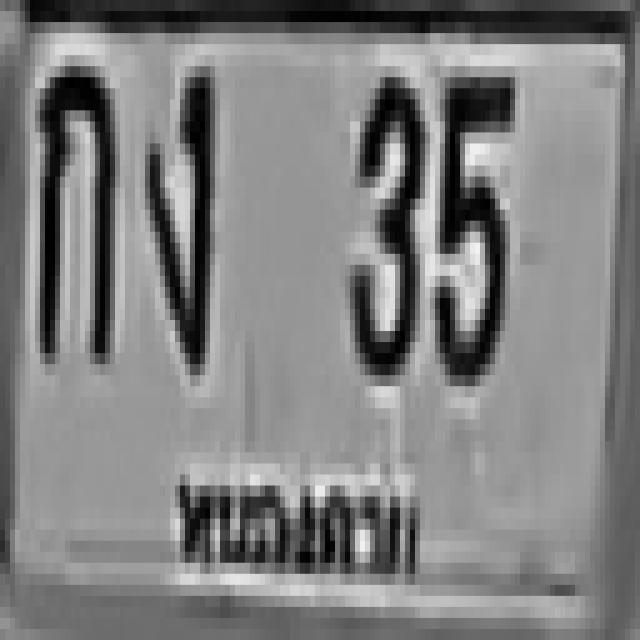10GorGai: (35, 55, 110, 353)
16NgorNgu: (140, 55, 210, 364)
3: (345, 66, 420, 364)
5: (430, 66, 510, 375)
NongKhai: (164, 454, 428, 606)
